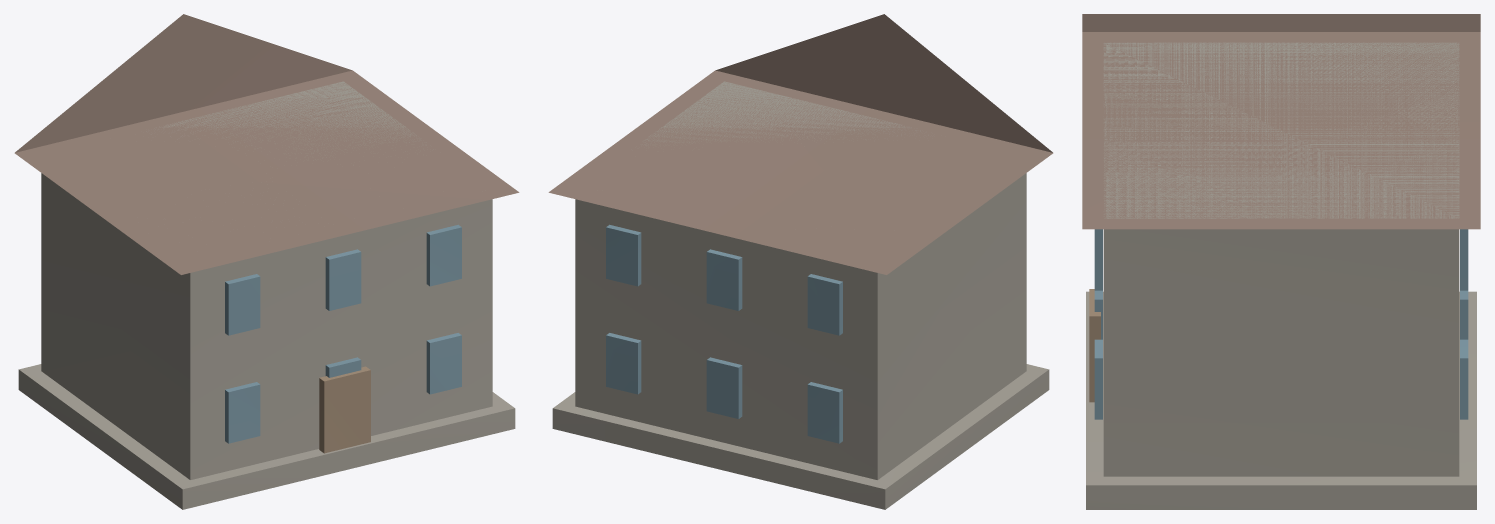
The model's file is townhouse-05.glb.
3 renders of one model, left to right at view 1: azimuth 30°, elevation 25°; view 2: azimuth 150°, elevation 25°; view 3: azimuth 270°, elevation 25°, orthographic. The views are drawn at different scales.
Visible parts, largest first — view 1: world; view 2: world; view 3: world.
Boxes of the visible parts, bbox=[...] form: world: bbox=[14, 14, 519, 509]; world: bbox=[548, 14, 1053, 509]; world: bbox=[1082, 14, 1480, 509].
Bounding box in the file's own units: 1.38 × 1.3 × 1.18.
